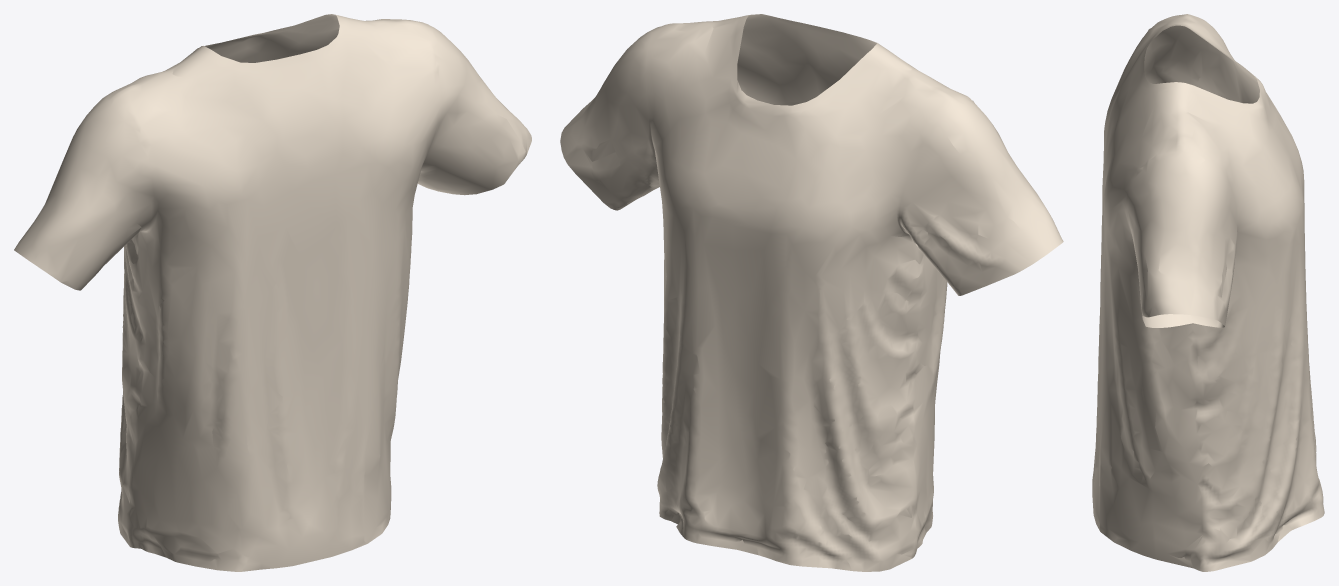
File: dimona_tech.glb
3 views of the same model, side by side, from view 1: azimuth 30°, elevation 25°; view 2: azimuth 150°, elevation 25°; view 3: azimuth 270°, elevation 25° (orthographic). The views are drawn at different scales.
Parts seen in each view (by area): view 1: camiseta_primitive0, camiseta_primitive3, camiseta_primitive2, camiseta_primitive1; view 2: camiseta_primitive2, camiseta_primitive3, camiseta_primitive0, camiseta_primitive1; view 3: camiseta_primitive2, camiseta_primitive0, camiseta_primitive3, camiseta_primitive1.
Boxes of the visible parts, x1,y1,x2,y2 form: camiseta_primitive0: [113, 16, 442, 571]; camiseta_primitive3: [14, 22, 531, 290]; camiseta_primitive2: [106, 16, 424, 547]; camiseta_primitive1: [191, 14, 346, 72]; camiseta_primitive2: [646, 18, 956, 571]; camiseta_primitive3: [560, 26, 1063, 295]; camiseta_primitive0: [683, 15, 968, 554]; camiseta_primitive1: [731, 14, 883, 116]; camiseta_primitive2: [1180, 14, 1324, 571]; camiseta_primitive0: [1092, 14, 1206, 571]; camiseta_primitive3: [1125, 20, 1243, 327]; camiseta_primitive1: [1139, 25, 1265, 109].
Size of the model in its own units: 44.41 by 42 by 19.24.
Materials: 4 (4 with a texture image).
